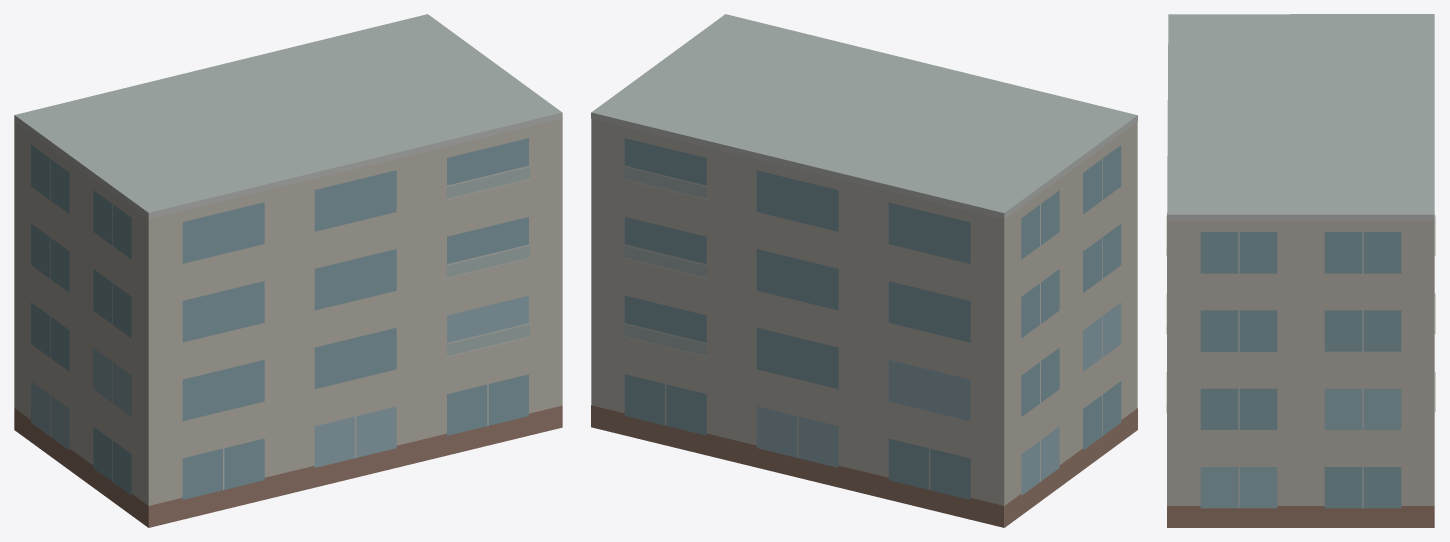
The model's file is survey-upis-33043275.glb.
3 views of the same model, side by side, from view 1: azimuth 30°, elevation 25°; view 2: azimuth 150°, elevation 25°; view 3: azimuth 270°, elevation 25° (orthographic).
Parts seen in each view (by area): view 1: survey-upis-33043275.tmp; view 2: survey-upis-33043275.tmp; view 3: survey-upis-33043275.tmp.
Part boxes in pixels (x1,y1,x2,y2): survey-upis-33043275.tmp: [14, 14, 562, 527]; survey-upis-33043275.tmp: [591, 14, 1137, 527]; survey-upis-33043275.tmp: [1166, 14, 1435, 527].
Bounding box in the file's own units: 16.78 × 12.2 × 9.52.
